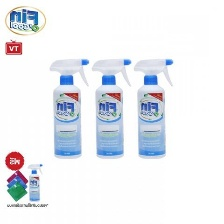cleaning_solution: (131, 54, 178, 161), (90, 56, 136, 161), (48, 55, 92, 162), (25, 161, 44, 203)
